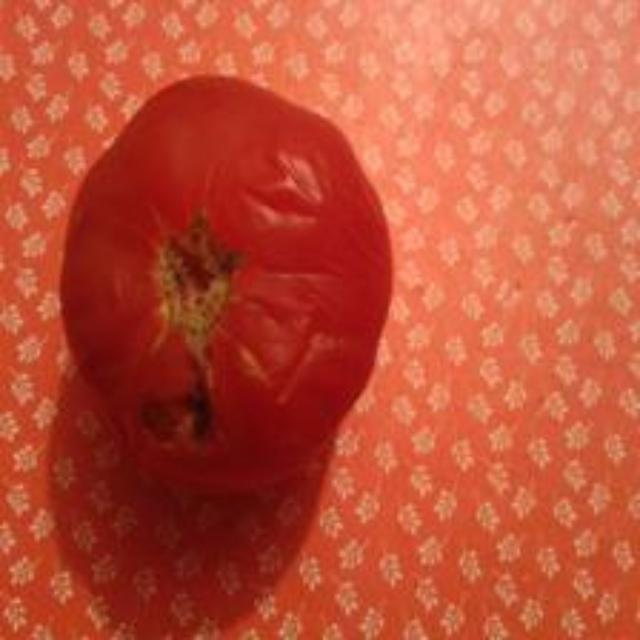defect: (60, 71, 395, 494)
